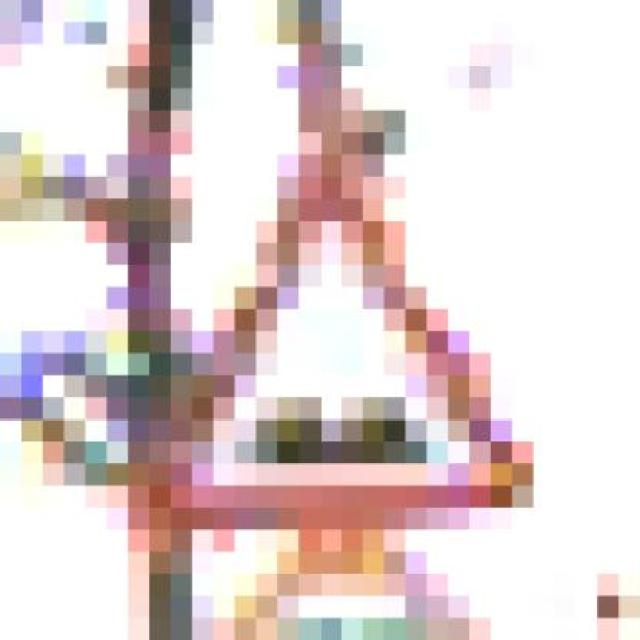Uneven Road: (106, 110, 534, 530)
